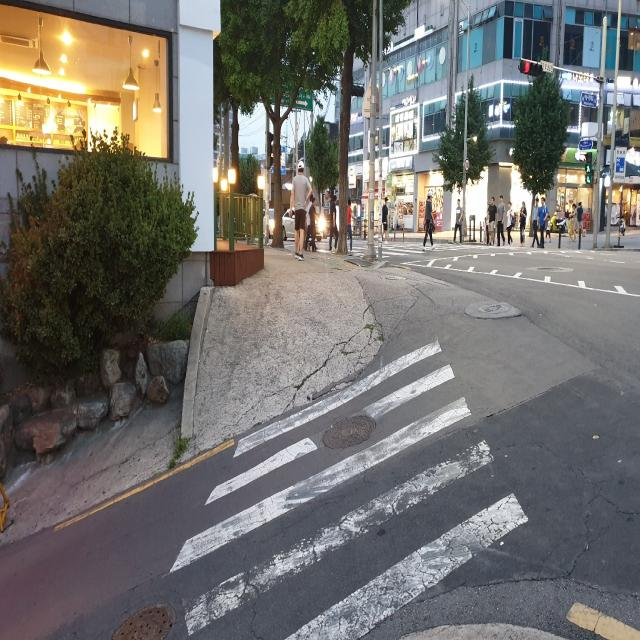초록불: (586, 153, 592, 185)
횡단보도: (166, 332, 531, 640)
